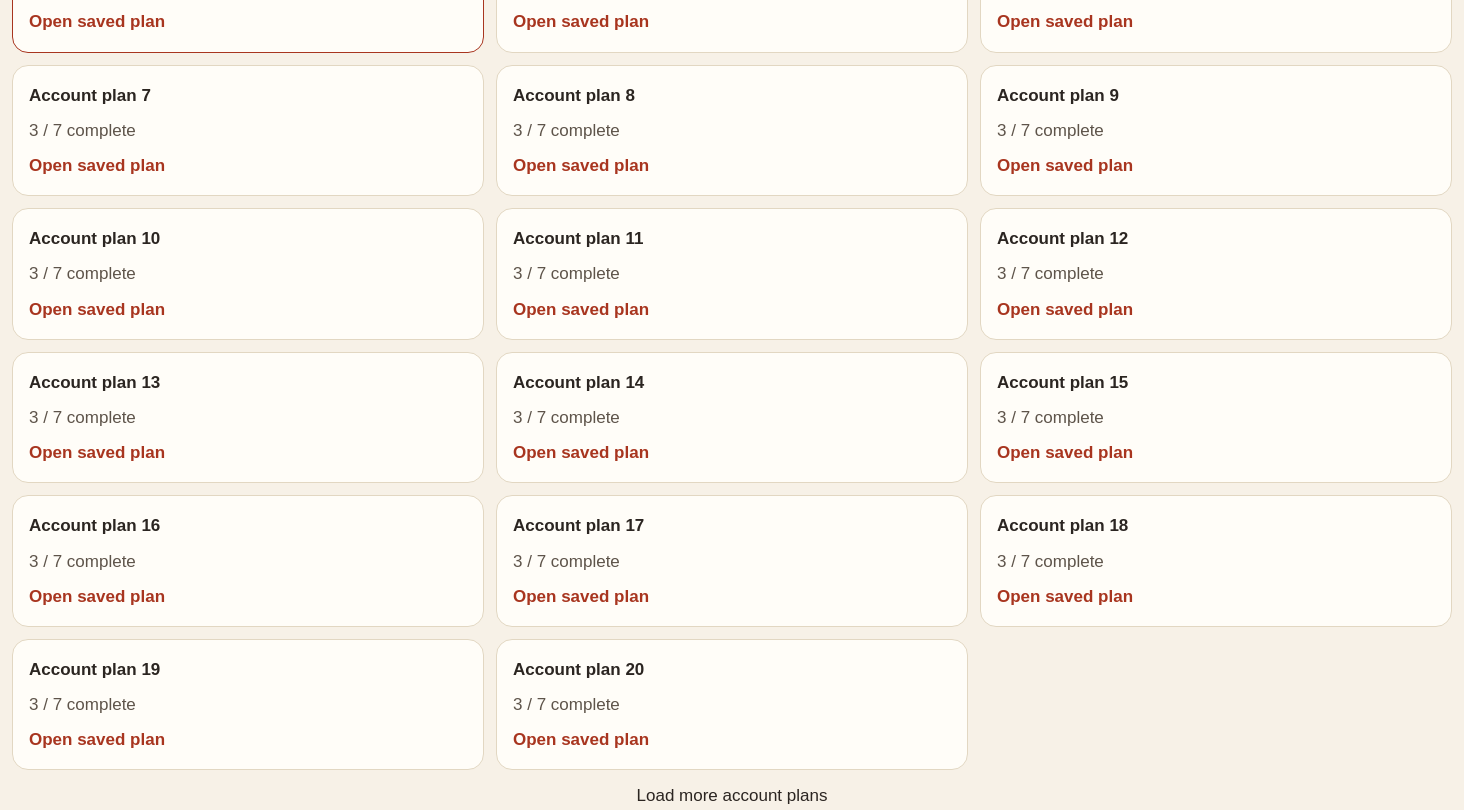
it: restarts the list on retry after a failed page without exposing server diagnostics
(page scrolled)
Click the button "Load more account plans" at (732, 796), box [12, 782, 1452, 809]
(page scrolled)
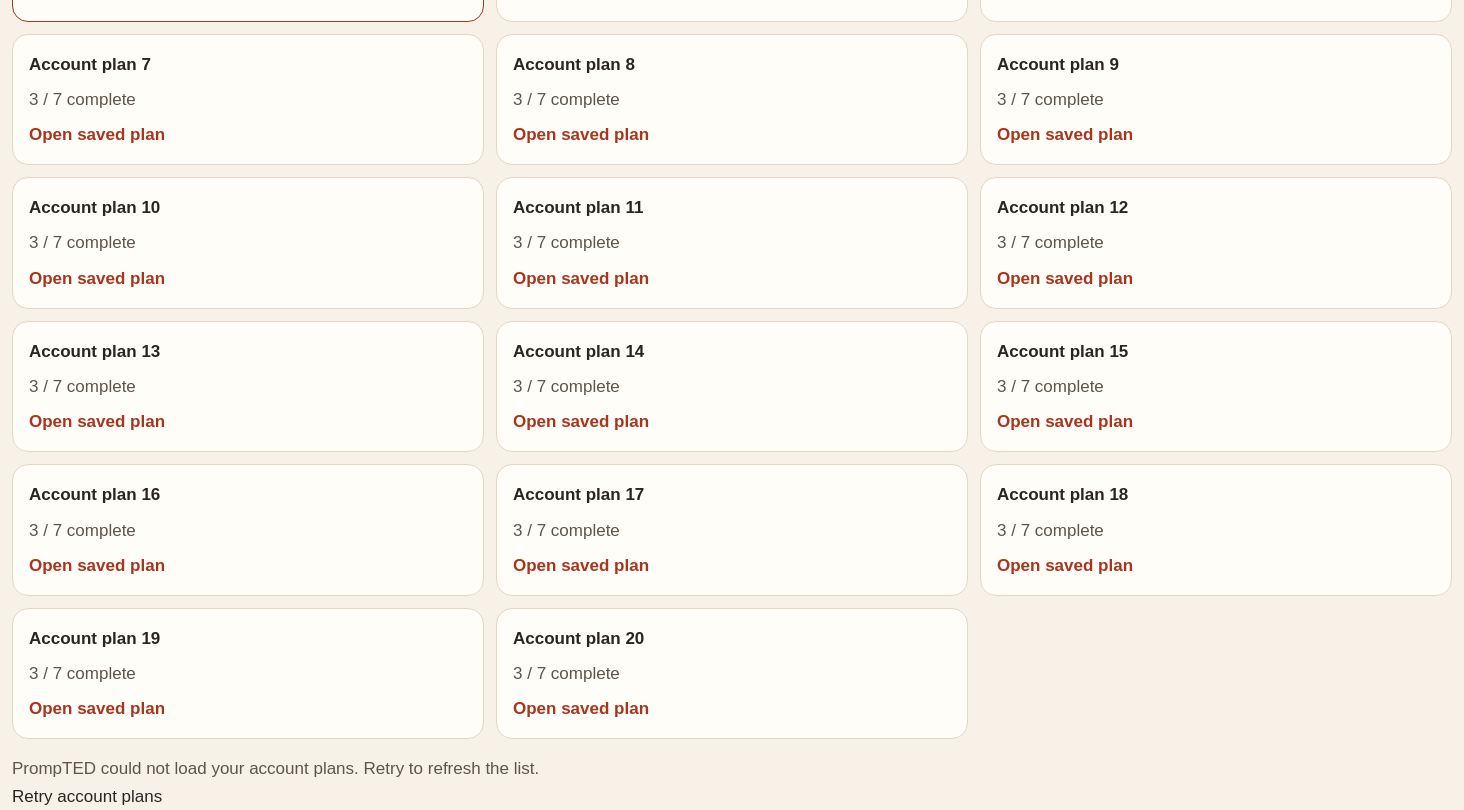
Click the button "Retry account plans" at (87, 796), box [12, 783, 162, 809]
(page scrolled)
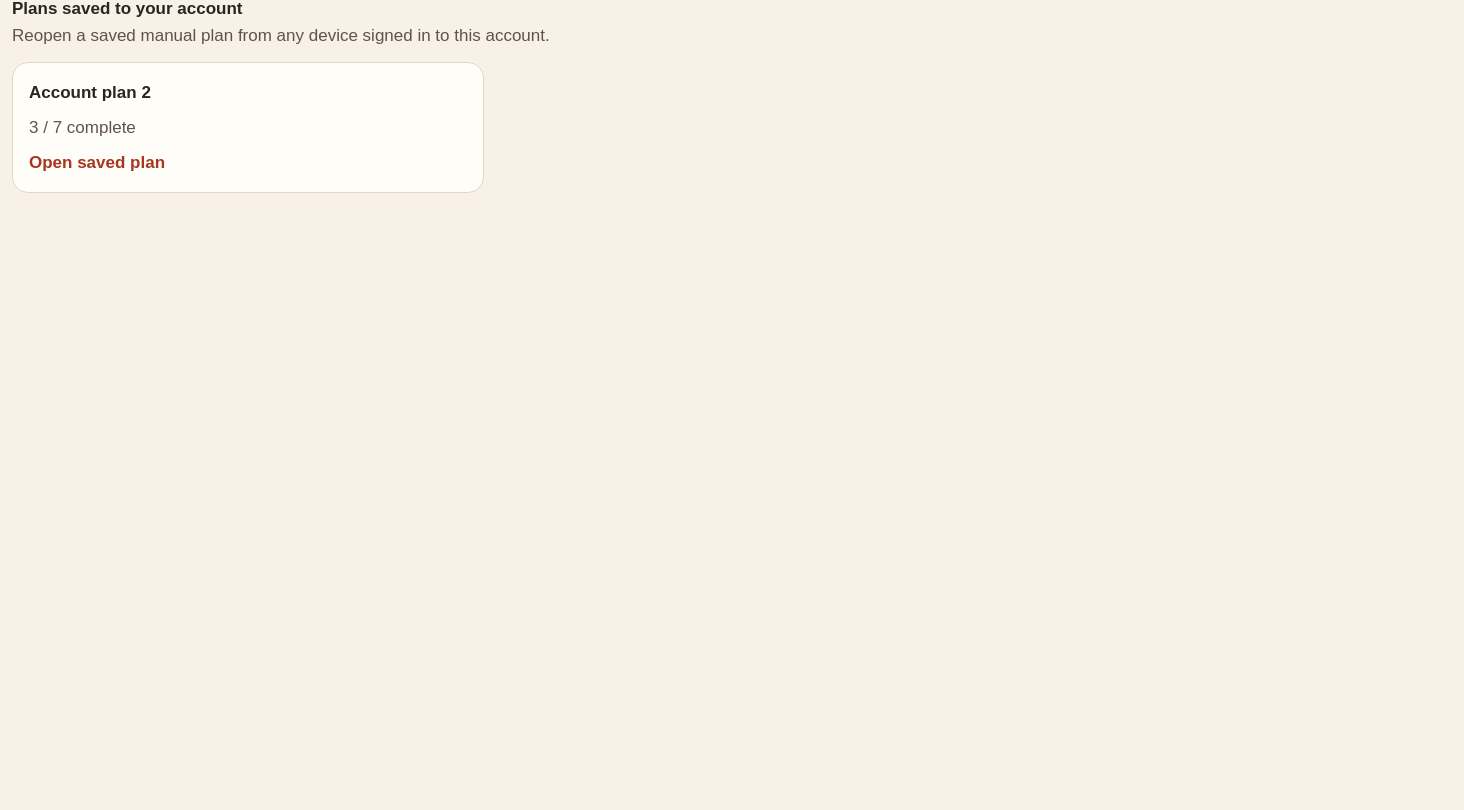
Expected: the text "Account plan 2" is shown, [29, 82, 151, 102]
Now the link "Account plan 1" is gone
